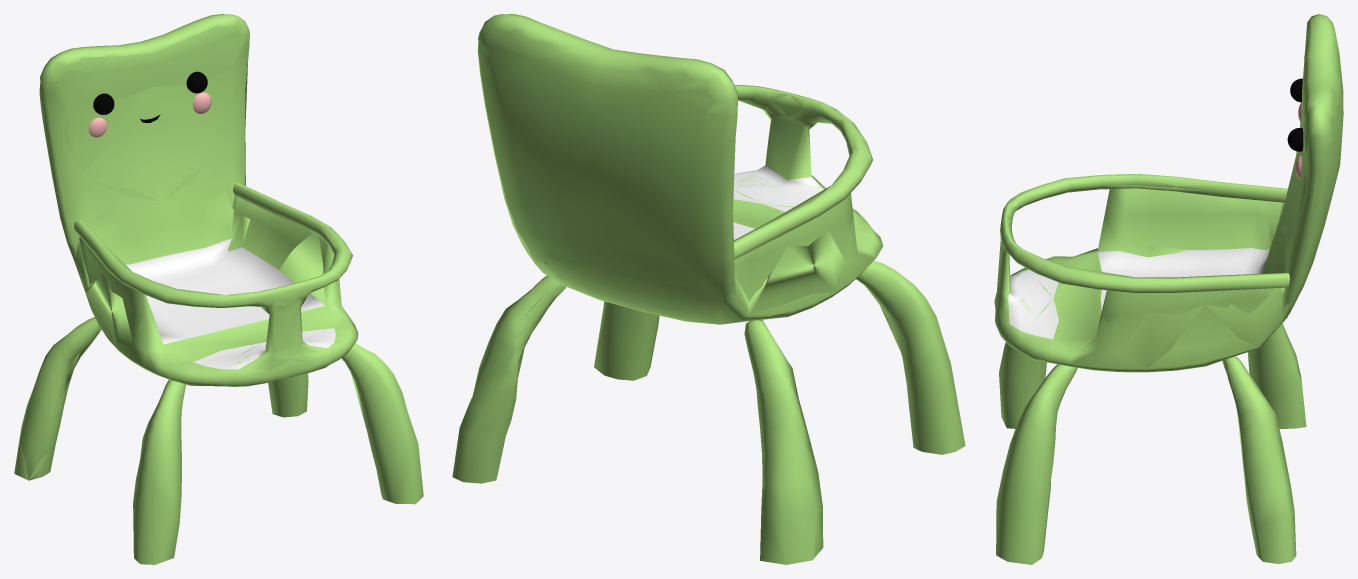
File: Frog_chair4.fbx
3 views of the same model, side by side, from view 1: azimuth 30°, elevation 25°; view 2: azimuth 150°, elevation 25°; view 3: azimuth 270°, elevation 25° (orthographic). The views are drawn at different scales.
Visible parts, largest first — view 1: froge chair, lowpoly froge; view 2: froge chair, lowpoly froge; view 3: froge chair, lowpoly froge.
Boxes of the visible parts, <box> form: froge chair: <box>14,14,423,564</box>; lowpoly froge: <box>15,27,366,480</box>; froge chair: <box>452,14,965,564</box>; lowpoly froge: <box>483,44,946,557</box>; froge chair: <box>994,14,1343,564</box>; lowpoly froge: <box>996,29,1335,556</box>.
Bounding box in the file's own units: 1.18 × 1.53 × 1.12.
